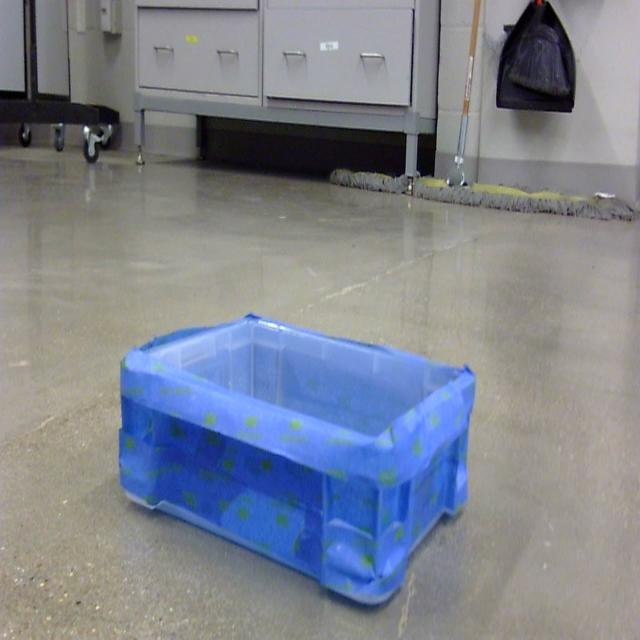bucket: (118, 313, 478, 610)
